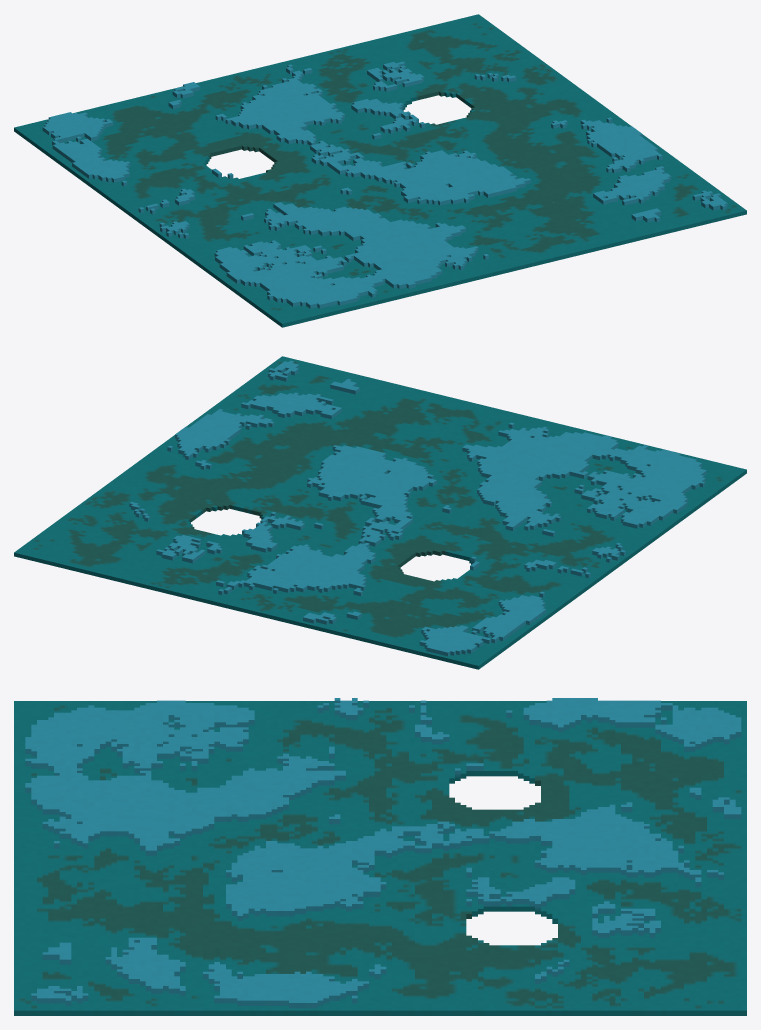
The model's file is floortile_teal_twogaps.fbx.
3 renders of one model, top to bottom at view 1: azimuth 30°, elevation 25°; view 2: azimuth 150°, elevation 25°; view 3: azimuth 270°, elevation 25°, orthographic. The views are drawn at different scales.
Visible parts, largest first — view 1: Union; view 2: Union; view 3: Union.
Part boxes in pixels (box(x1,y1,x2,y2)): Union: box(14, 14, 746, 327); Union: box(14, 356, 746, 669); Union: box(14, 698, 746, 1015).
Size of the model in its own units: 128 by 2 by 128.
1 material, 1 textured.
